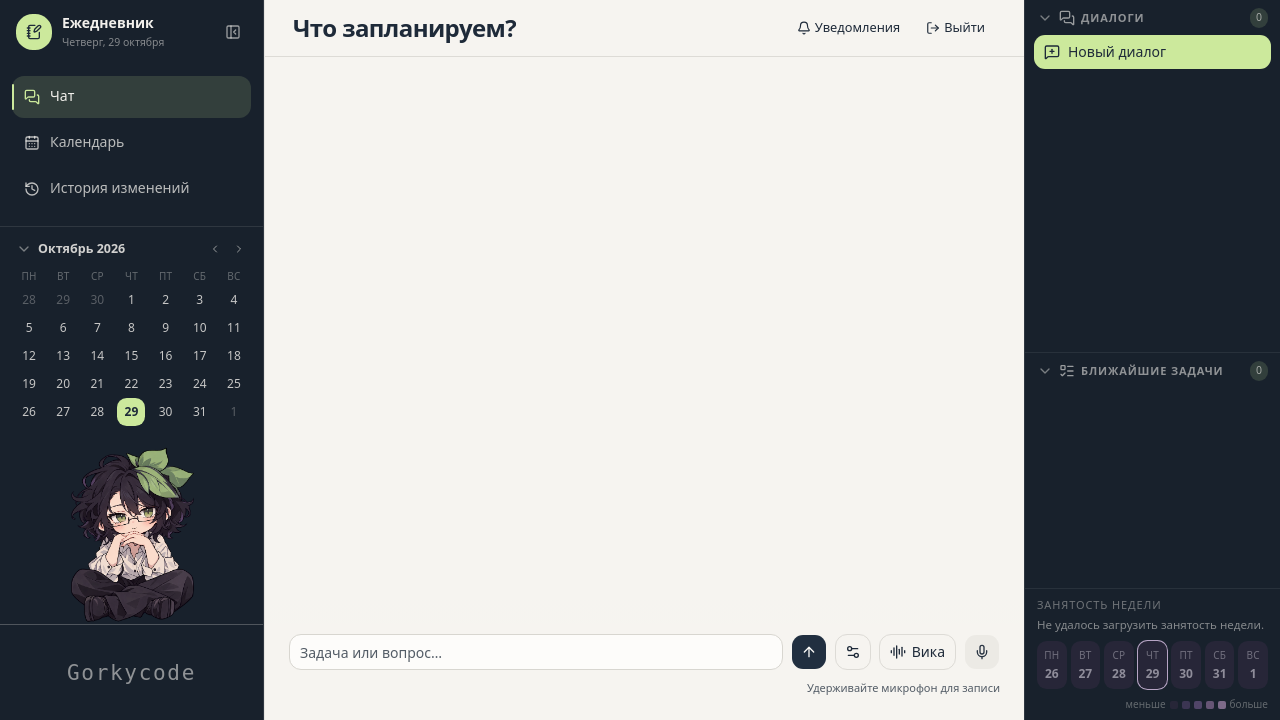
Test: planner chat › queues messages typed while the agent is still answering
Type "Первая задача" into the field named "Сообщение" at [536, 652], box [289, 634, 783, 670]
Then press Enter
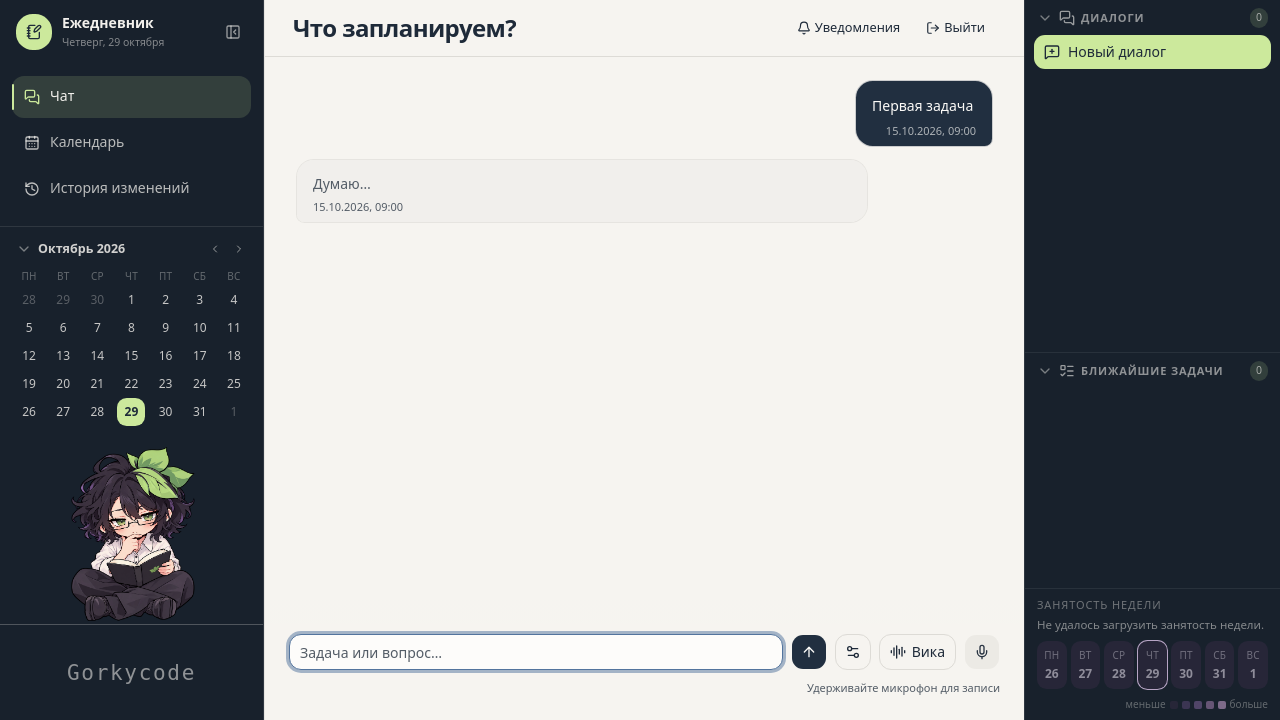
Type "Вторая задача" into the field named "Сообщение" at [536, 652], box [289, 634, 783, 670]
Then press Enter
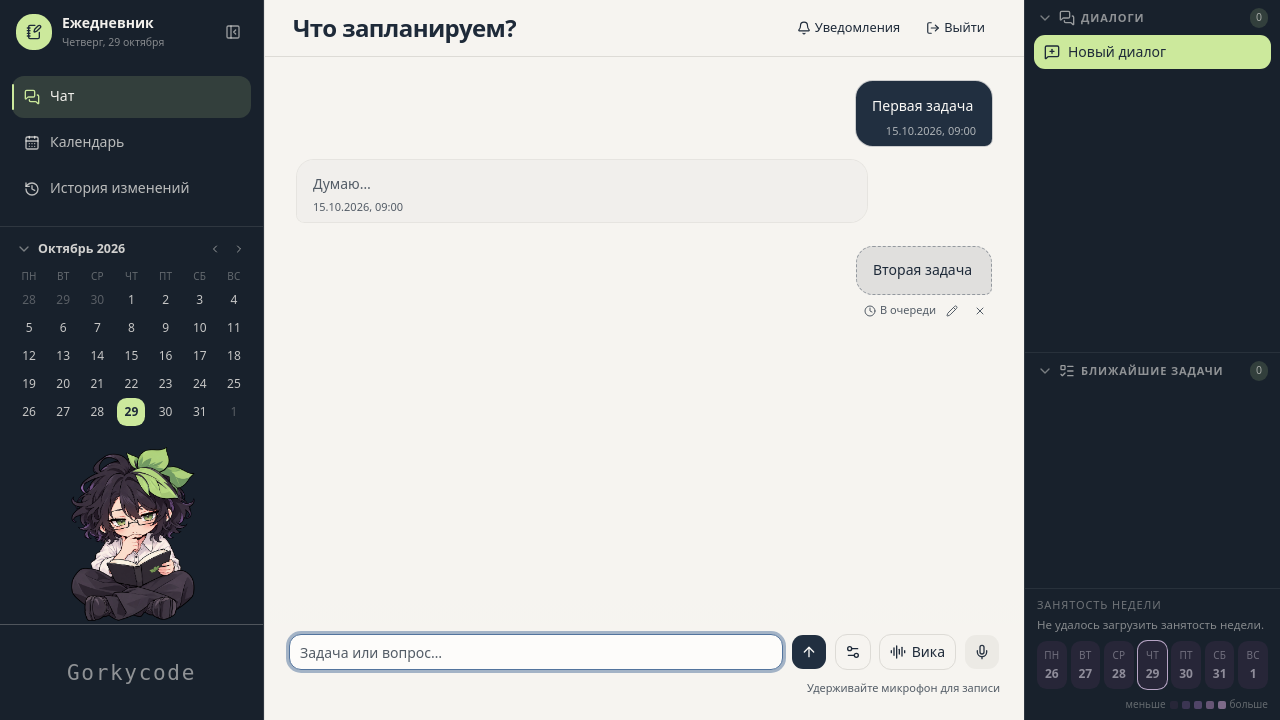
Type "Третья задача" into the field named "Сообщение" at [536, 652], box [289, 634, 783, 670]
Then press Enter
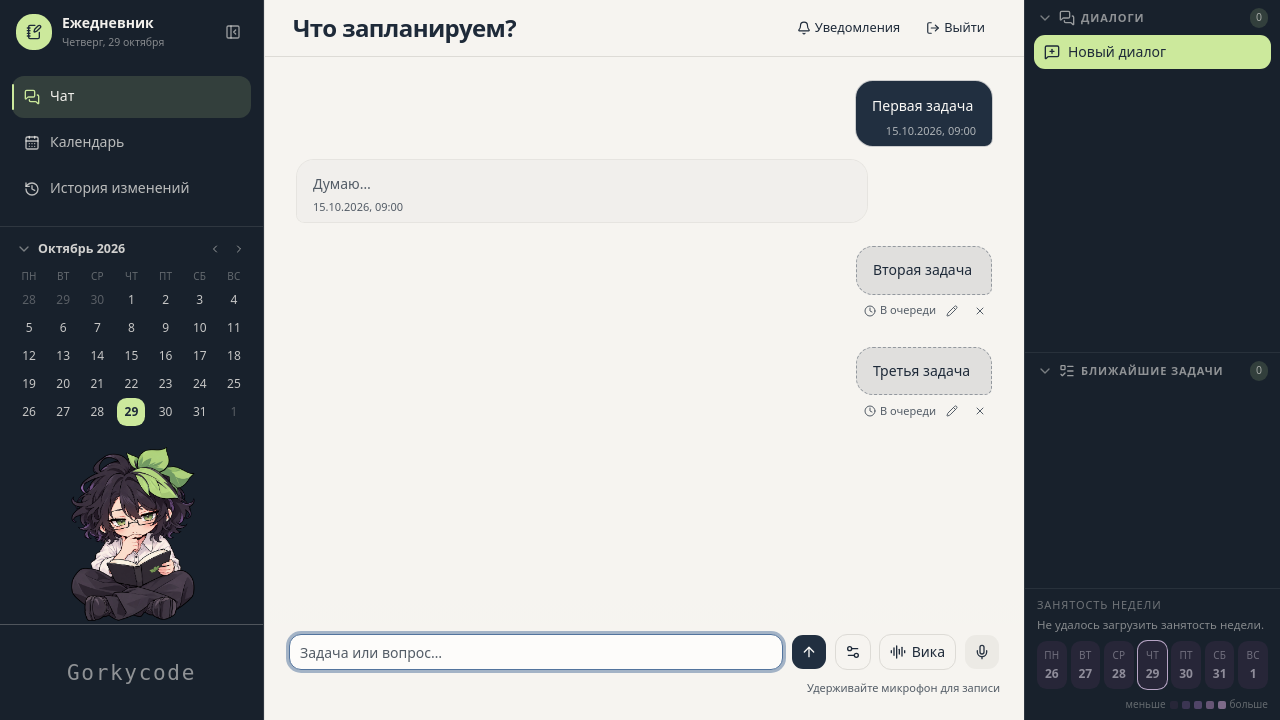
Expected: the text "Первая задача" is shown, [872, 95, 976, 118]
Expected: the text "В очереди" below "Вторая задача" is shown, [880, 302, 936, 317]
Click the button named "Изменить сообщение" below "Вторая задача" at [952, 310], box [940, 298, 964, 322]
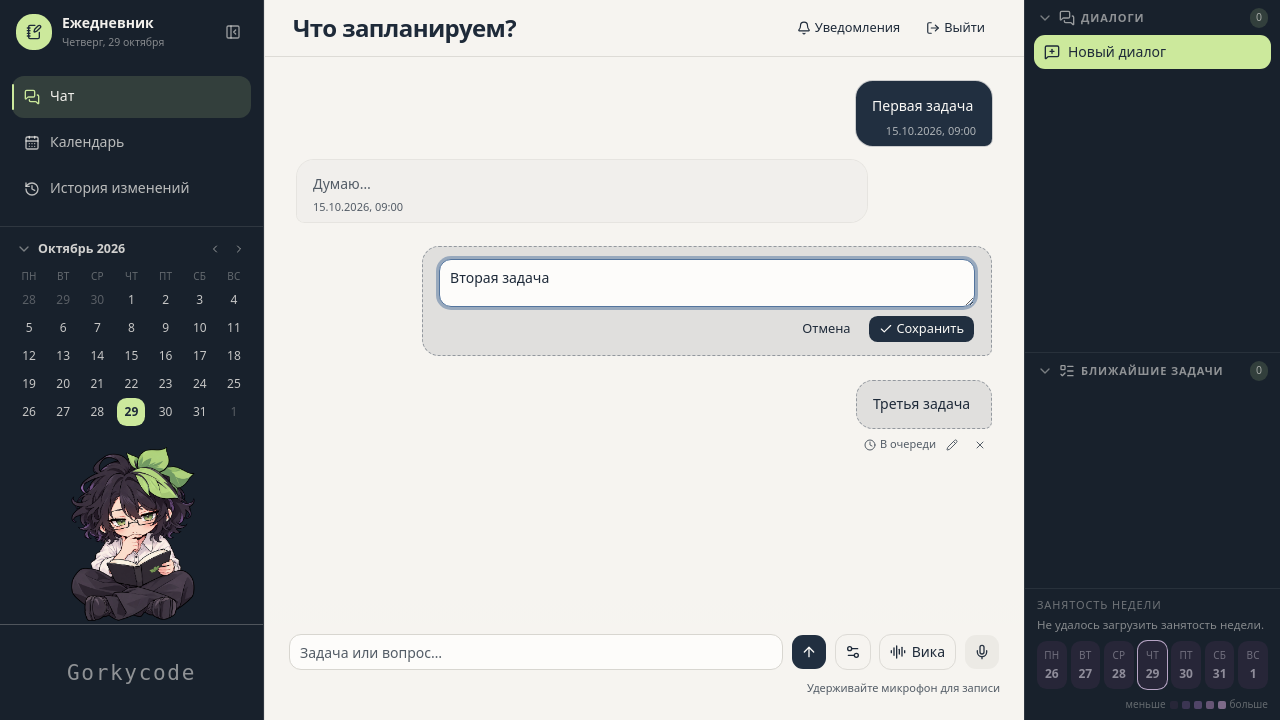
Replace the text in the text box named "Текст сообщения в очереди" with "Вторая, уточнённая" at [707, 283], box [439, 259, 975, 307]
Then press Enter
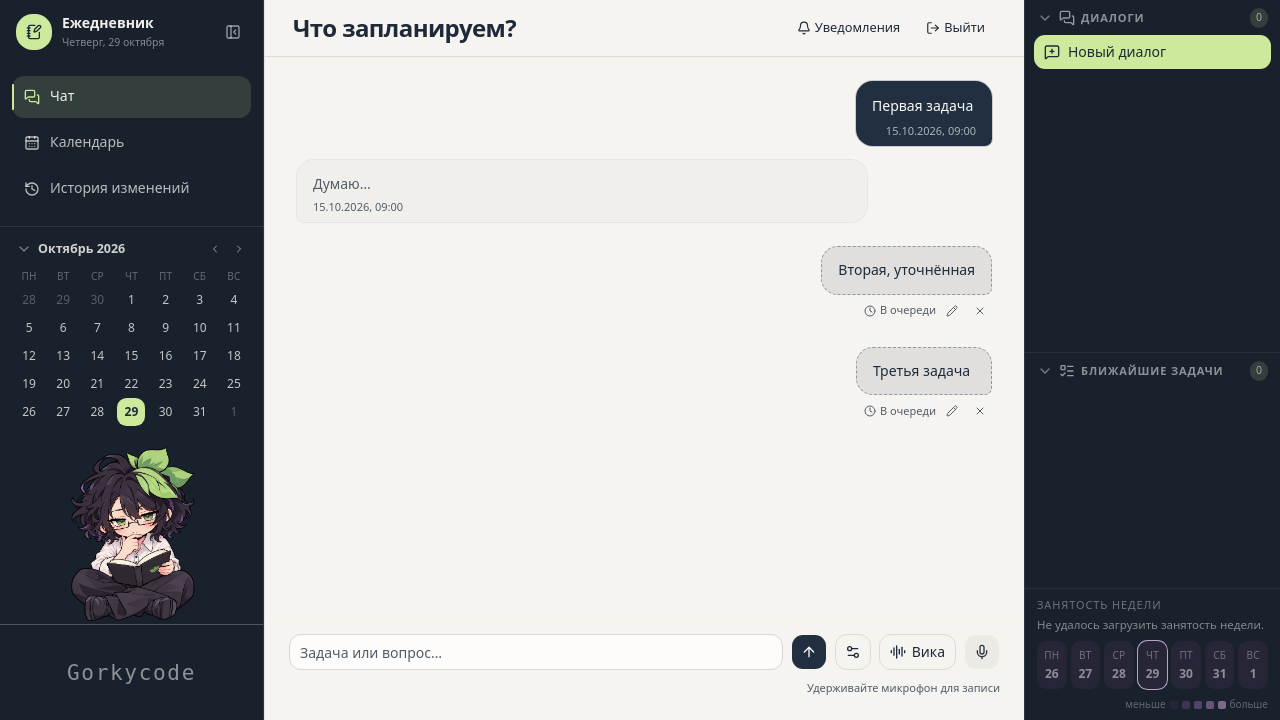
Expected: the text "Вторая, уточнённая" is shown, [838, 259, 975, 282]
Click the button named "Убрать из очереди" below "Третья задача" at [980, 411], box [968, 399, 992, 423]
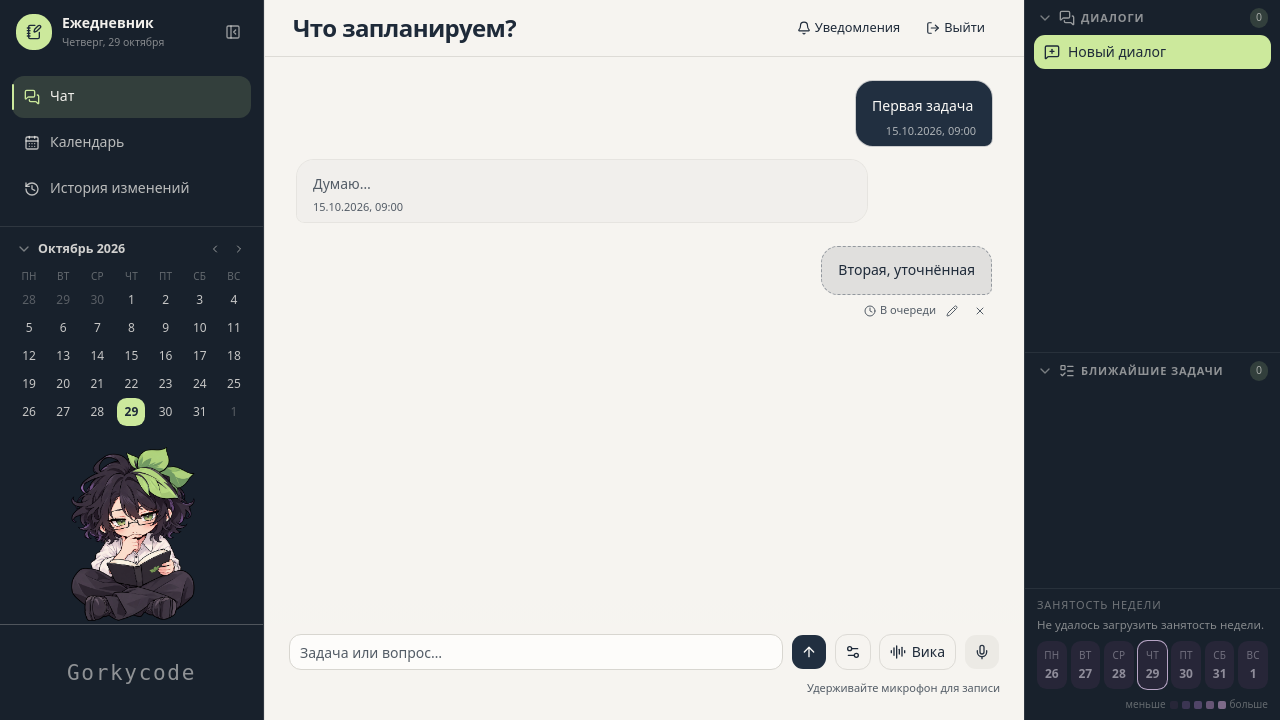
Expected: the text "Третья задача" is gone
